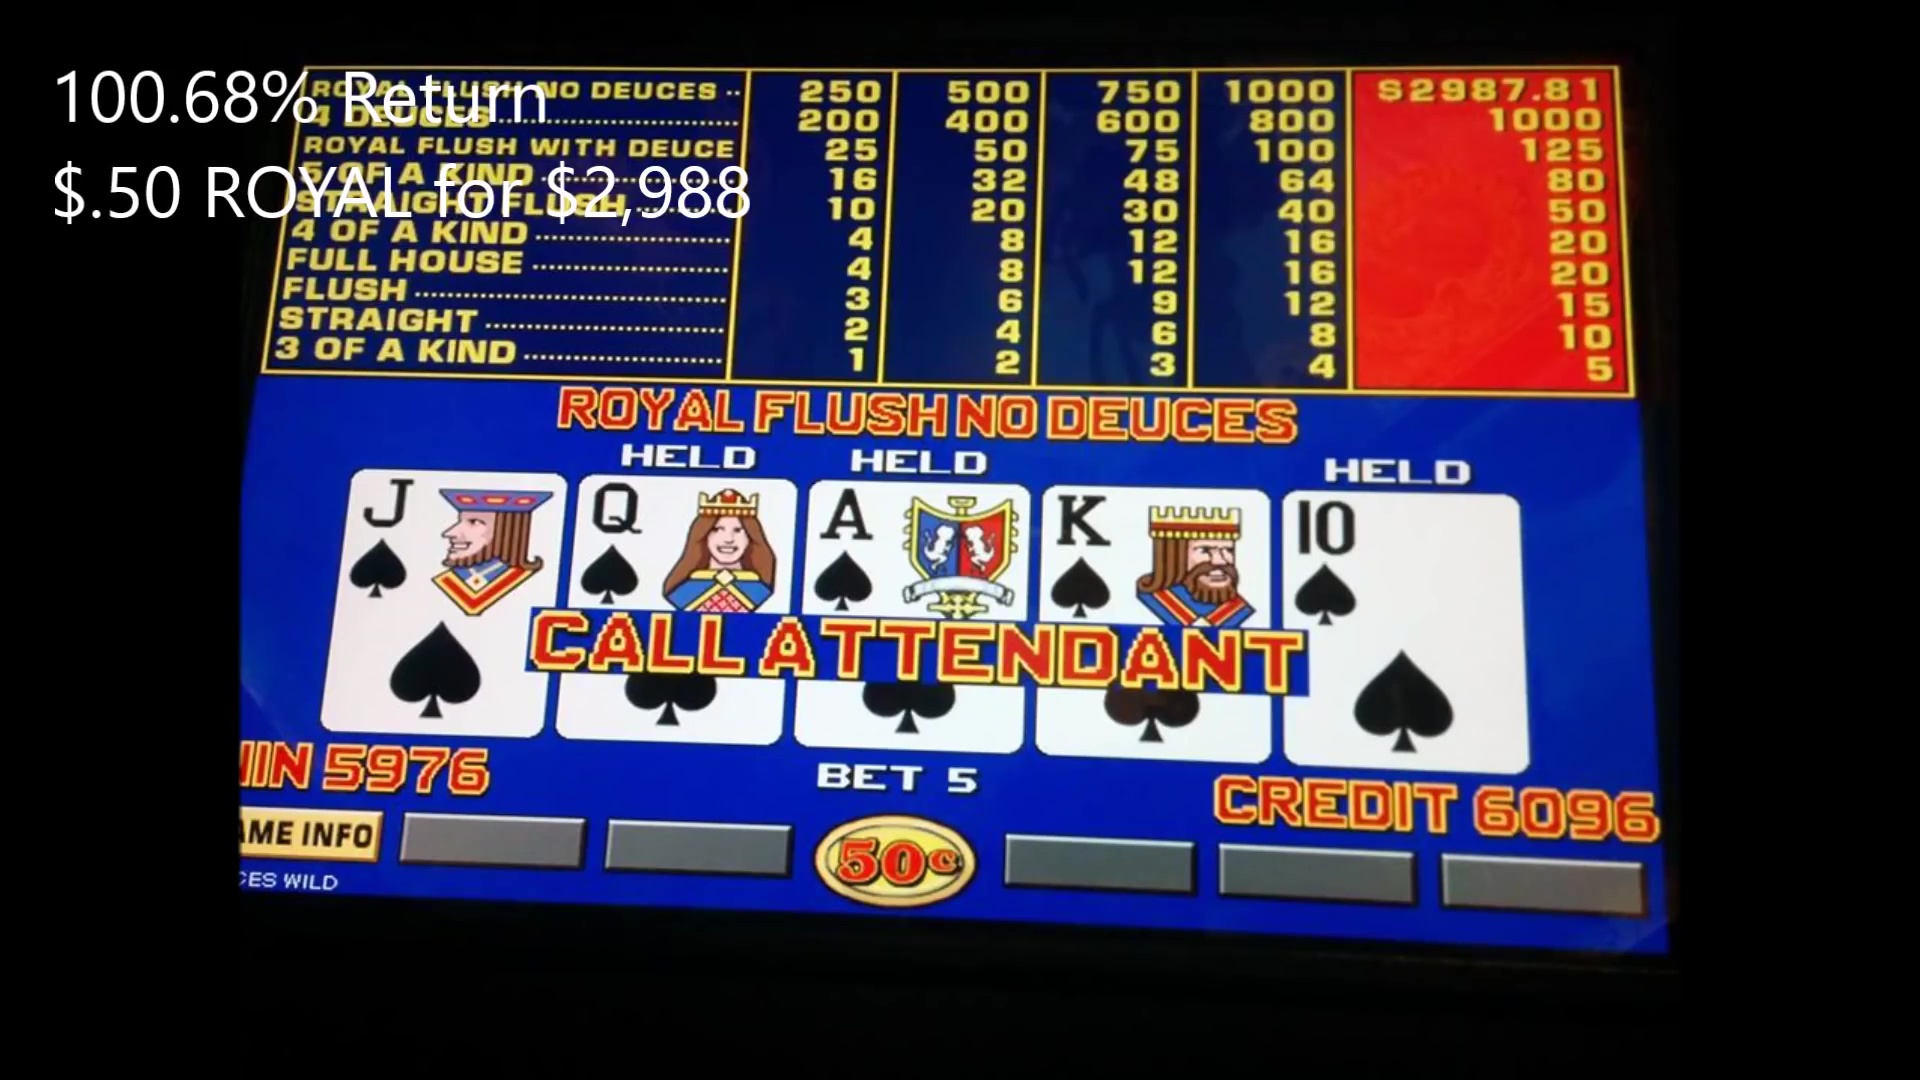CQ: (585, 472, 787, 607)
CT: (1290, 495, 1519, 622)
SA: (808, 483, 1019, 611)
SJ: (353, 471, 553, 599)
SK: (1044, 488, 1269, 621)
